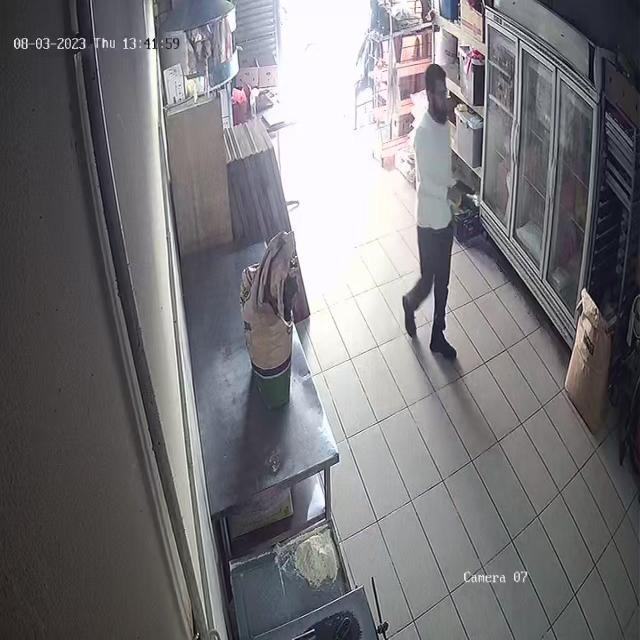Gun: (443, 173, 482, 211)
